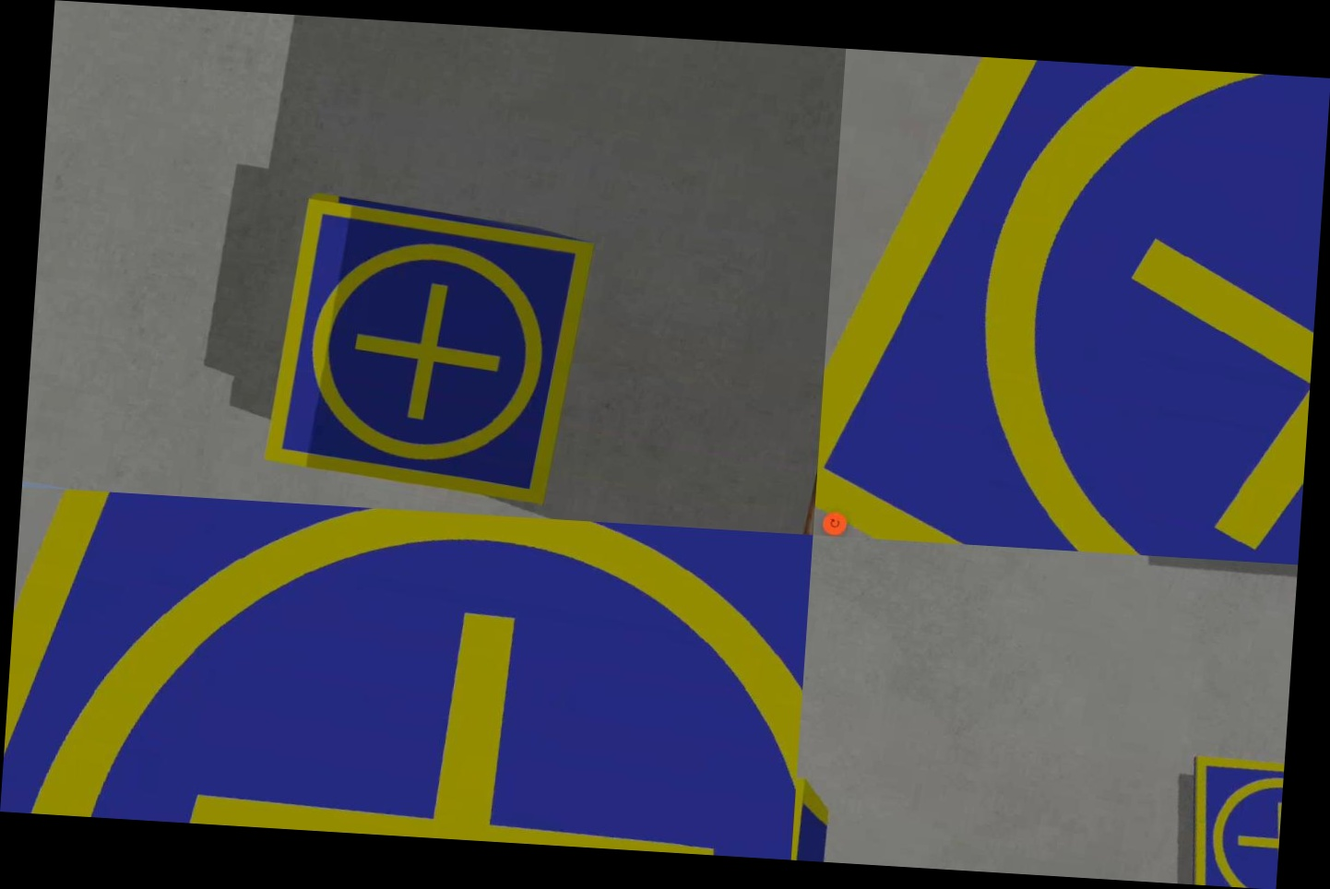small_base: (0, 487, 813, 859), (813, 49, 1330, 564), (256, 193, 599, 513), (1163, 736, 1285, 889)
